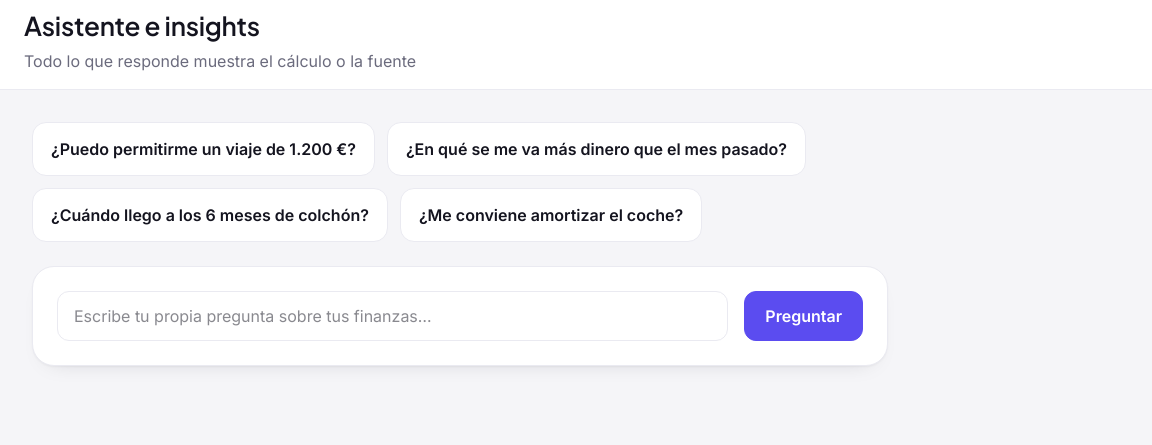
Scenario: AssistantPage › el campo libre declara sus límites en vez de fingir una respuesta abierta
The image size is (1152, 445).
Expected: the text "el asistente solo responde a las cuatro preguntas sugeridas" is not shown
In the field named "Escribe tu pregunta": point(393, 316) [57,291,728,341], type "¿Cuánto gasté en Netflix?"
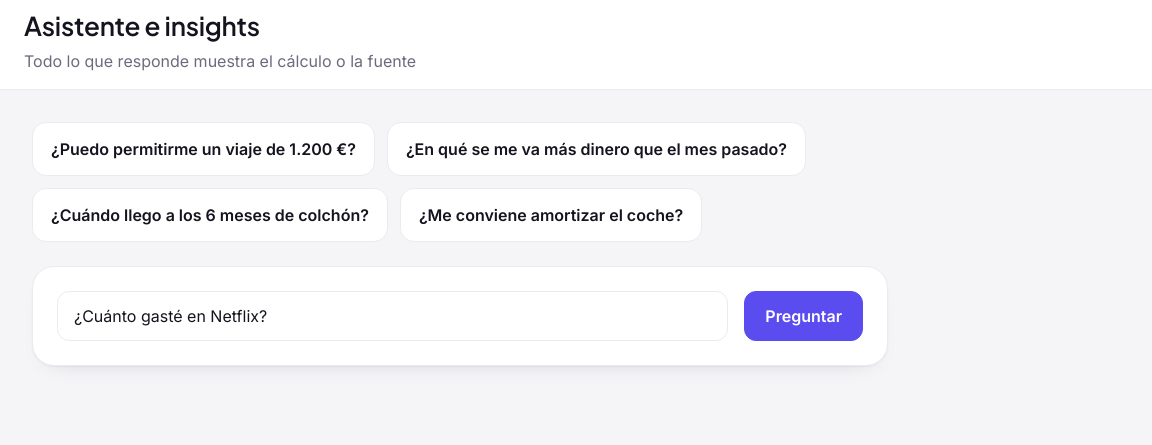
Click the button "Preguntar": point(804, 316) [744,291,863,341]
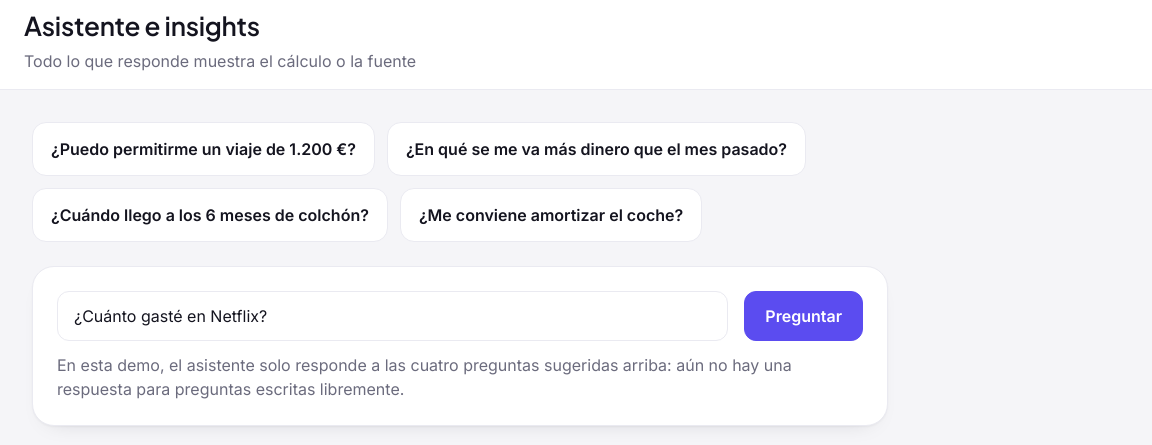
Expected: the text "el asistente solo responde a las cuatro preguntas sugeridas" is shown, [57,355,792,399]
